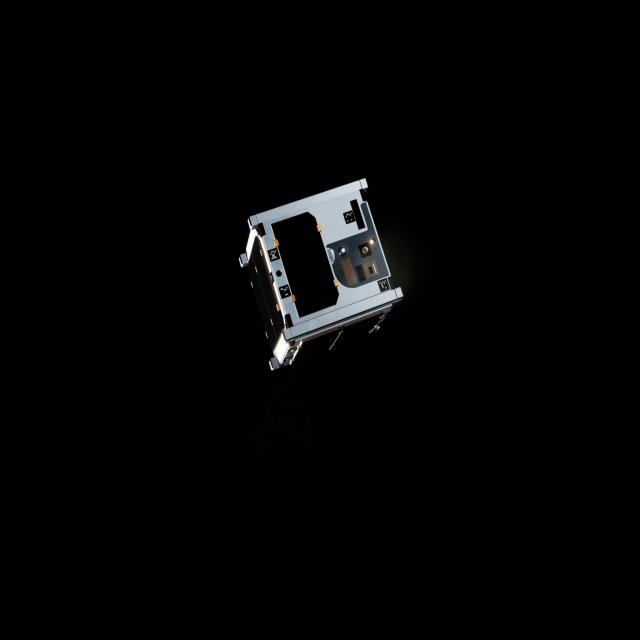satellite: (225, 168, 417, 384)
